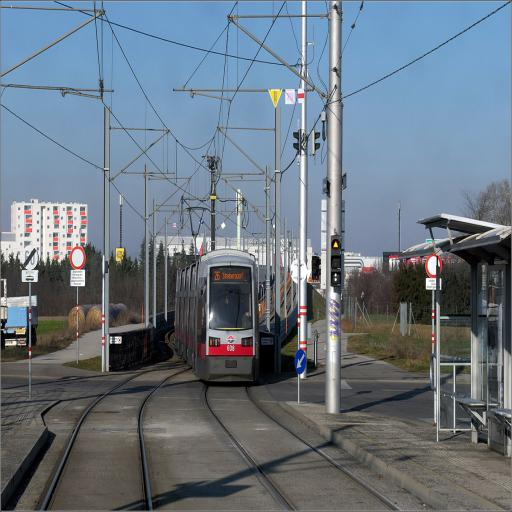ULF: (174, 250, 262, 384)
